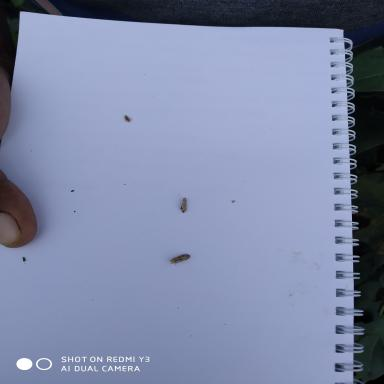pbw: (166, 252, 192, 264), (178, 196, 188, 213)
